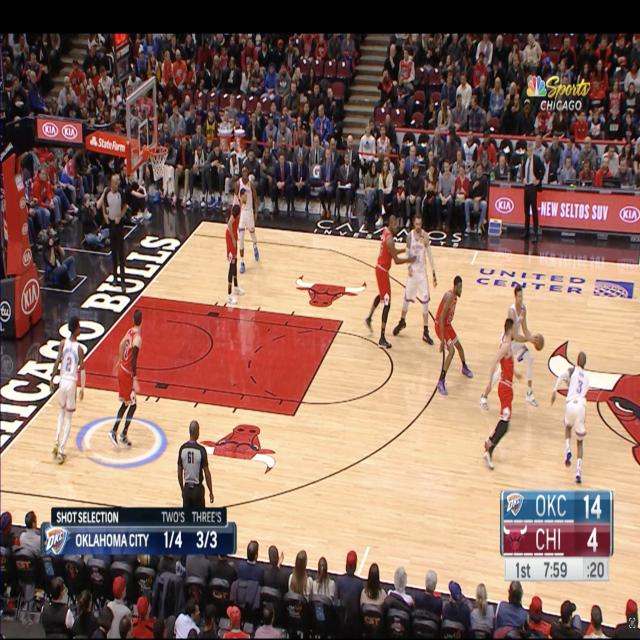no foul: (360, 200, 437, 356), (485, 281, 545, 470), (222, 172, 267, 306)
